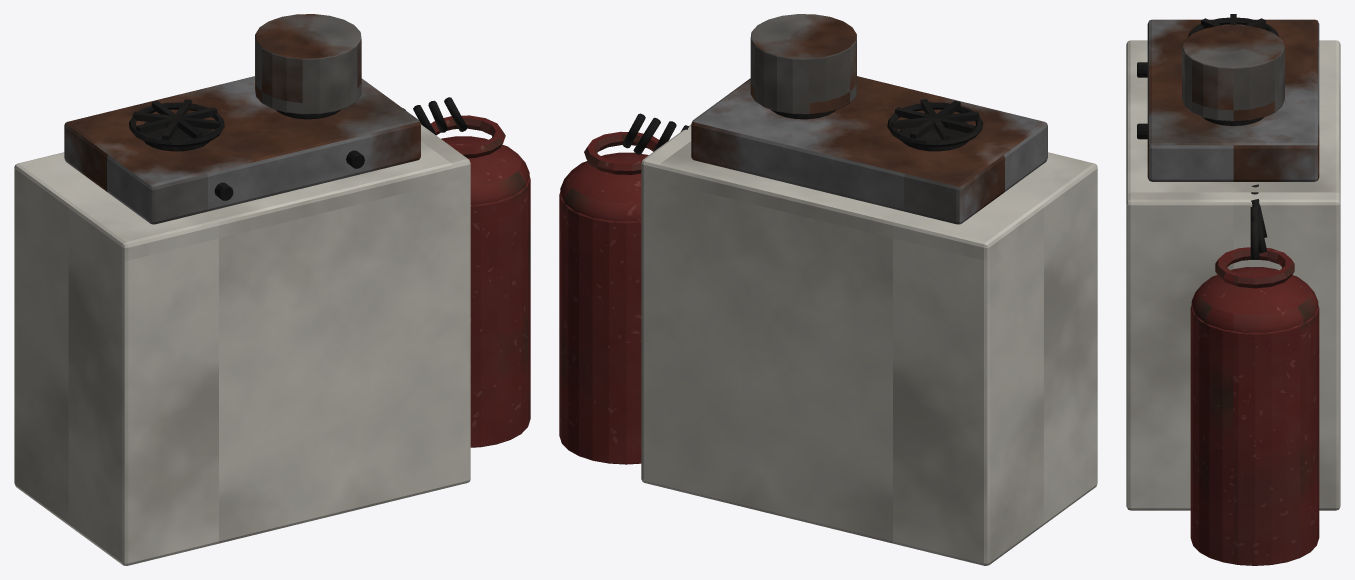
The model's file is K01_gas_stove.glb.
3 views of the same model, side by side, from view 1: azimuth 30°, elevation 25°; view 2: azimuth 150°, elevation 25°; view 3: azimuth 270°, elevation 25° (orthographic). The views are drawn at different scales.
Visible parts, largest first — view 1: K01_gas_stove; view 2: K01_gas_stove; view 3: K01_gas_stove.
Boxes of the visible parts, x1,y1,x2,y2 form: K01_gas_stove: [14, 14, 530, 565]; K01_gas_stove: [559, 14, 1097, 565]; K01_gas_stove: [1126, 14, 1340, 565].
Size of the model in its own units: 0.7 by 0.6242 by 0.2917.
Materials: 6 (6 with a texture image).
